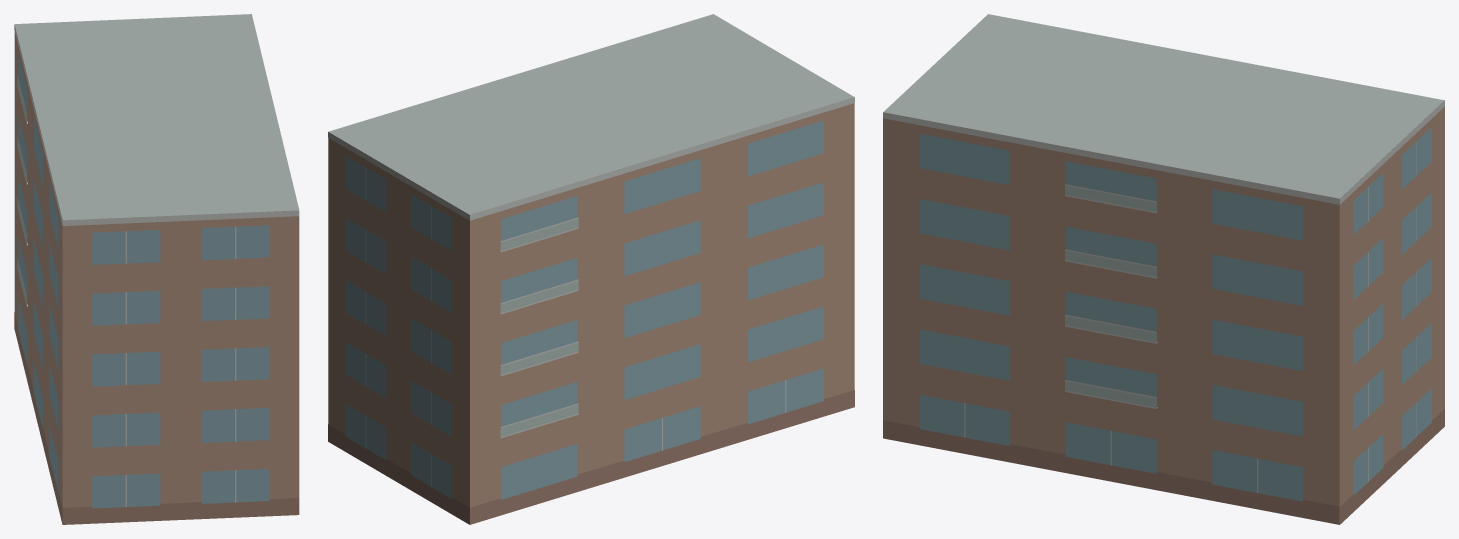
Rendered from survey-upis-32922113.glb.
The picture shows the model from 3 angles, left to right: view 1: azimuth 30°, elevation 25°; view 2: azimuth 150°, elevation 25°; view 3: azimuth 270°, elevation 25°; orthographic projection. The views are drawn at different scales.
Visible parts, largest first — view 1: survey-upis-32922113.tmp; view 2: survey-upis-32922113.tmp; view 3: survey-upis-32922113.tmp.
Boxes of the visible parts, x1,y1,x2,y2 form: survey-upis-32922113.tmp: (14,14,299,524); survey-upis-32922113.tmp: (328,14,854,524); survey-upis-32922113.tmp: (883,14,1444,524).
Bounding box in the file's own units: 15.8 × 13 × 20.3.
